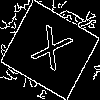X: (25, 24, 75, 80)
